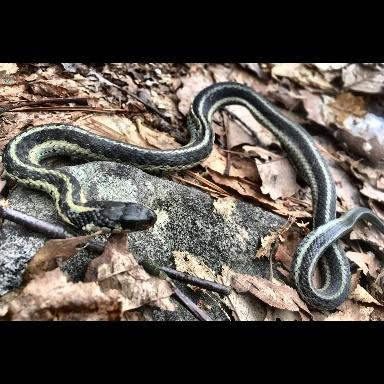snake: (3, 83, 335, 233), (291, 208, 384, 313)
